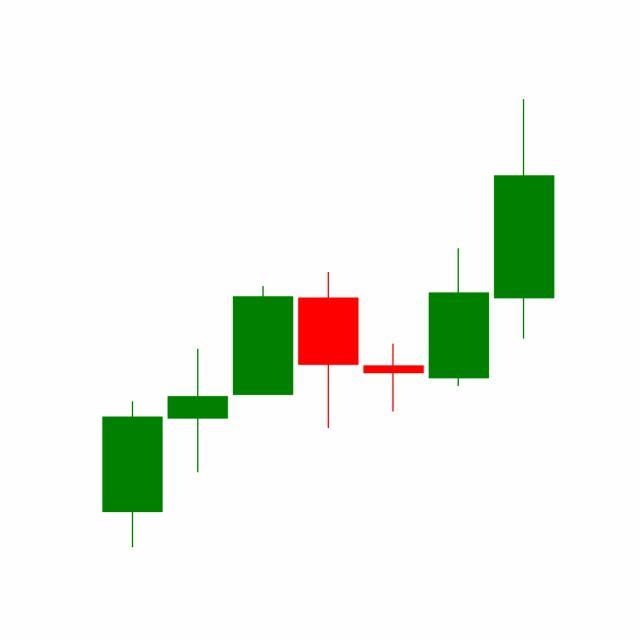Morning Doji Star: (295, 247, 492, 432)
